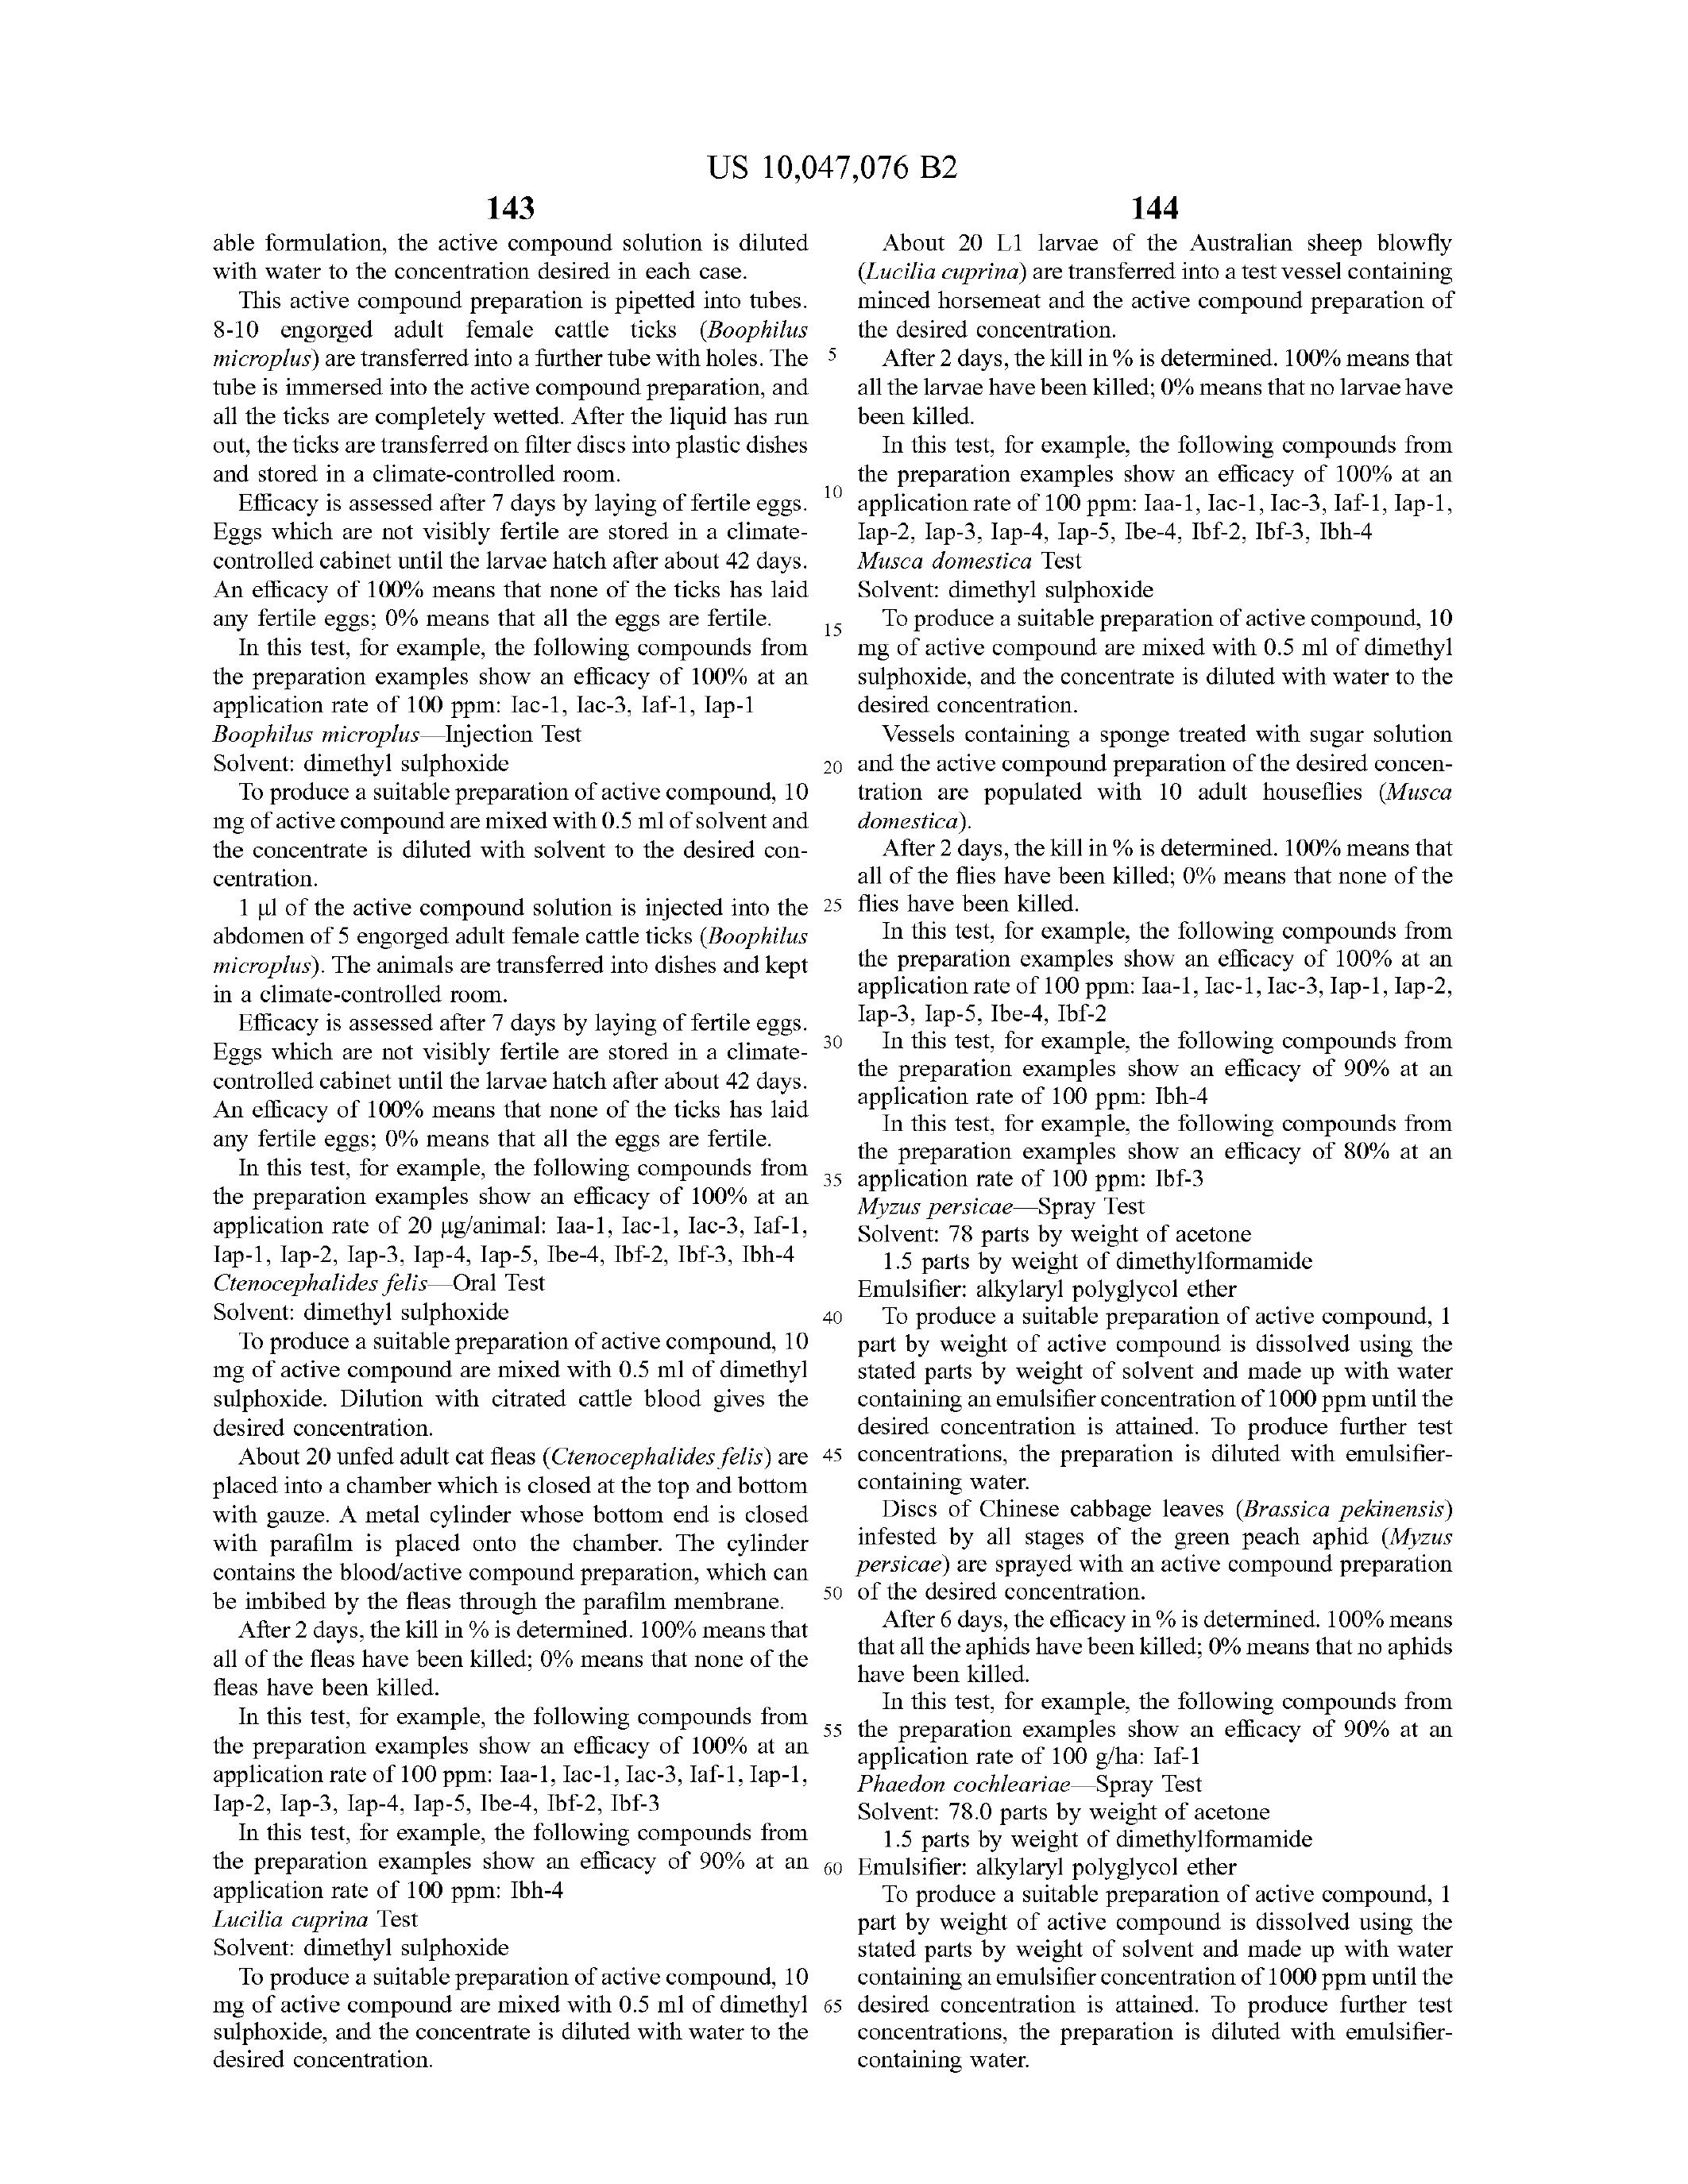reactions: (871, 1890, 1491, 2074), (195, 1966, 819, 2078)
